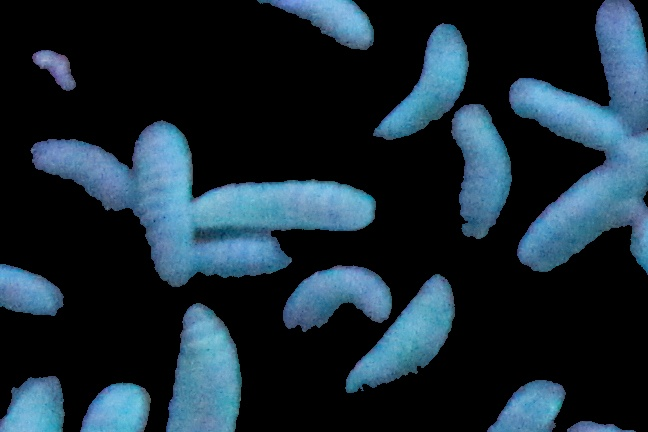larvae: (511, 146, 648, 270), (346, 271, 449, 408), (184, 179, 388, 241), (374, 24, 470, 152), (16, 132, 139, 229), (160, 298, 247, 432), (127, 117, 191, 292), (211, 1, 391, 54), (278, 267, 394, 348), (445, 108, 514, 240), (504, 69, 620, 146), (588, 2, 648, 137), (188, 234, 299, 285), (1, 260, 65, 325)
